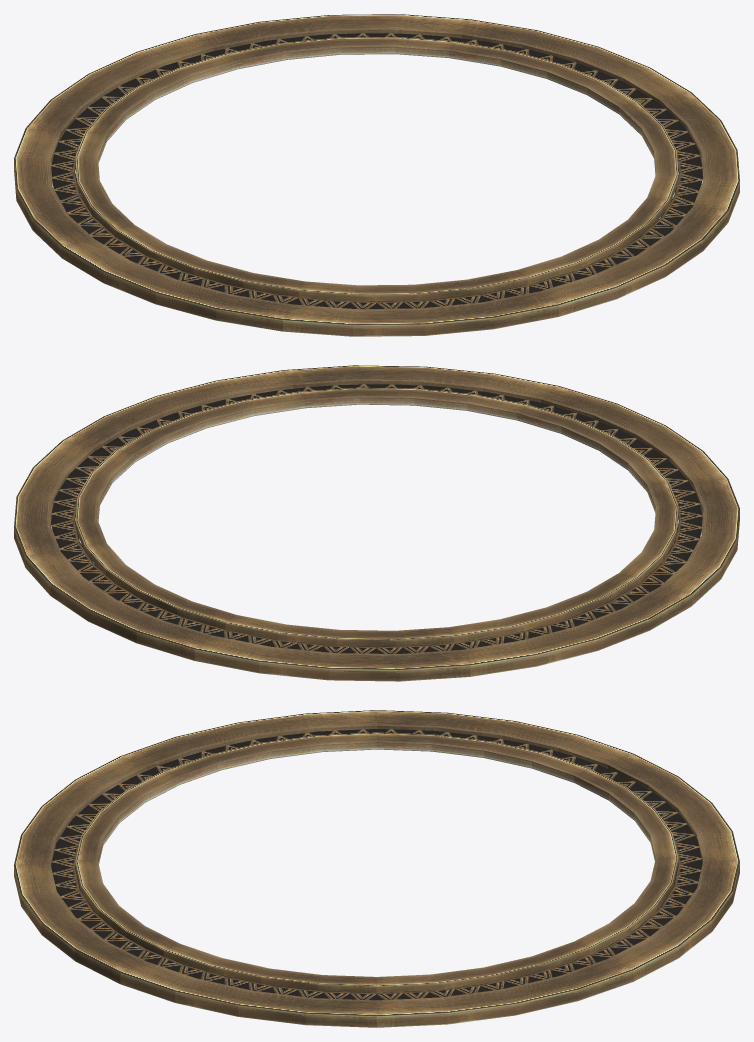
File: S_Build_Desert006_A1.FBX
3 renders of one model, top to bottom at view 1: azimuth 30°, elevation 25°; view 2: azimuth 150°, elevation 25°; view 3: azimuth 270°, elevation 25°, orthographic.
Visible parts, largest first — view 1: S_Build_Desert006_A1; view 2: S_Build_Desert006_A1; view 3: S_Build_Desert006_A1.
Part boxes in pixels (x1,y1,x2,y2): S_Build_Desert006_A1: [14, 14, 739, 336]; S_Build_Desert006_A1: [14, 365, 739, 681]; S_Build_Desert006_A1: [14, 710, 739, 1027].
Size of the model in its own units: 2301 by 66.46 by 2307.
